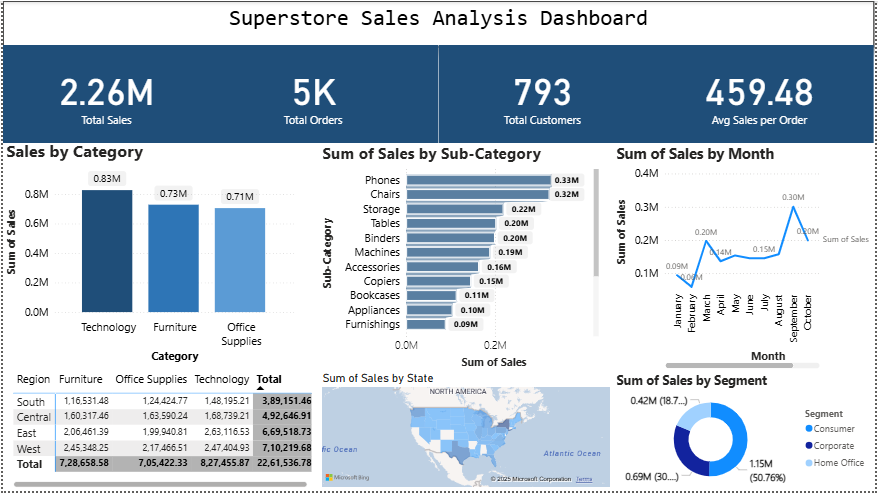

This screenshot's page, from the dashboard's own definition file:
{"tool":"powerbi","page":{"name":"Page 1","canvas":[1280,720],"ordinal":0},"visuals":[{"type":"textbox","box":[10,0,280,280],"z":0},{"type":"textbox","box":[10,290,280,280],"z":1000},{"type":"textbox","box":[10,570,280,150],"z":2000},{"type":"textbox","box":[300.7,0,855,280.5],"z":3000},{"type":"textbox","box":[0,0,1279.8,67.6],"z":4000},{"type":"textbox","box":[0,0,1279.8,67.6],"z":5000},{"type":"clusteredColumnChart","title":" Sales by Category","fields":{"Y":["Sum(superstore dataset.Sales)"],"Category":["superstore dataset.Category"]},"box":[0,203.3,433.3,333.3],"z":6000},{"type":"pivotTable","fields":{"Rows":["superstore dataset.Region"],"Columns":["superstore dataset.Category"],"Values":["Sum(superstore dataset.Sales)"]},"box":[10.3,537.8,448.2,182.2],"z":7000},{"type":"card","fields":{"Values":["superstore dataset.Total Orders"]},"box":[276.2,69.1,364.4,133.7],"z":8000},{"type":"donutChart","fields":{"Category":["superstore dataset.Segment"],"Y":["Sum(superstore dataset.Sales)"]},"box":[896,544,384,176],"z":9000},{"type":"card","fields":{"Values":["superstore dataset.Total Customers"]},"box":[640.7,69.1,310,133.7],"z":10000},{"type":"card","fields":{"Values":["superstore dataset.Avg Sales per Order"]},"box":[950.7,69.1,329.1,133.7],"z":11000},{"type":"card","fields":{"Values":["superstore dataset.Total Sales"]},"box":[0,64,336,144],"z":12000},{"type":"barChart","fields":{"Category":["superstore dataset.Sub-Category"],"Y":["Sum(superstore dataset.Sales)"]},"box":[464,208,416,336],"z":13000},{"type":"lineChart","fields":{"Y":["Sum(superstore dataset.Sales)"],"Category":["superstore dataset.Order Date.Variation.Date Hierarchy.Year","superstore dataset.Order Date.Variation.Date Hierarchy.Quarter","superstore dataset.Order Date.Variation.Date Hierarchy.Month","superstore dataset.Order Date.Variation.Date Hierarchy.Day"]},"box":[890.4,202.8,389.4,335],"z":14000},{"type":"filledMap","fields":{"Category":["superstore dataset.State"]},"box":[464,544,432,176],"z":15001}]}

Visuals, with their boxes in screenshot pixels (x1, y1, x2, y2), scaled from the page's 1280x720 canvas onto the 878x493 screenshot:
textbox: left=7, top=0, right=199, bottom=192
textbox: left=7, top=199, right=199, bottom=390
textbox: left=7, top=390, right=199, bottom=492
textbox: left=206, top=0, right=793, bottom=192
textbox: left=0, top=0, right=877, bottom=46
textbox: left=0, top=0, right=877, bottom=46
" Sales by Category" clusteredColumnChart: left=0, top=139, right=297, bottom=367
pivotTable - superstore dataset.Region x superstore dataset.Category: left=7, top=368, right=315, bottom=492
card - superstore dataset.Total Orders: left=189, top=47, right=439, bottom=139
donutChart - superstore dataset.Segment x Sum(superstore dataset.Sales): left=615, top=372, right=877, bottom=492
card - superstore dataset.Total Customers: left=439, top=47, right=652, bottom=139
card - superstore dataset.Avg Sales per Order: left=652, top=47, right=877, bottom=139
card - superstore dataset.Total Sales: left=0, top=44, right=230, bottom=142
barChart - superstore dataset.Sub-Category x Sum(superstore dataset.Sales): left=318, top=142, right=604, bottom=372
lineChart - Sum(superstore dataset.Sales) x superstore dataset.Order Date.Variation.Date Hierarchy.Year: left=611, top=139, right=877, bottom=368
filledMap - superstore dataset.State: left=318, top=372, right=615, bottom=492
